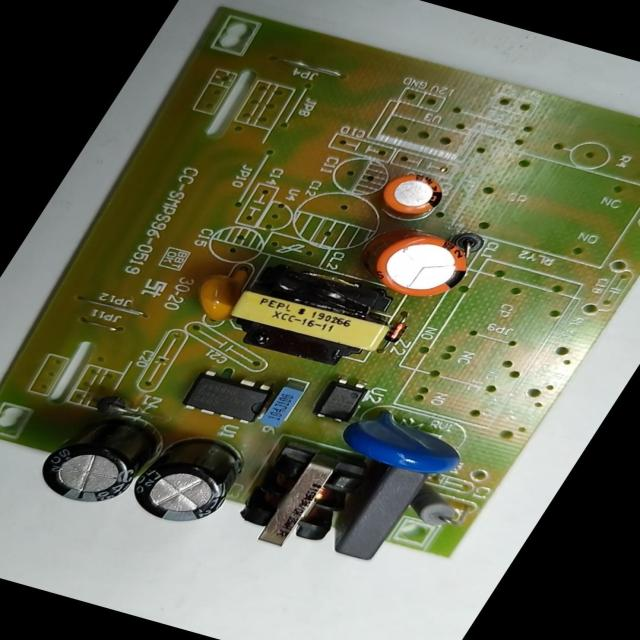Cap1: (361, 225, 483, 306)
Cap2: (372, 168, 455, 220)
Cap3: (118, 429, 255, 532)
Cap4: (28, 410, 161, 510)
MOSFET: (178, 368, 278, 428)
Mov: (332, 406, 475, 482)
Resistor: (404, 485, 469, 530)
Transformer: (214, 257, 412, 378), (226, 442, 374, 558)
